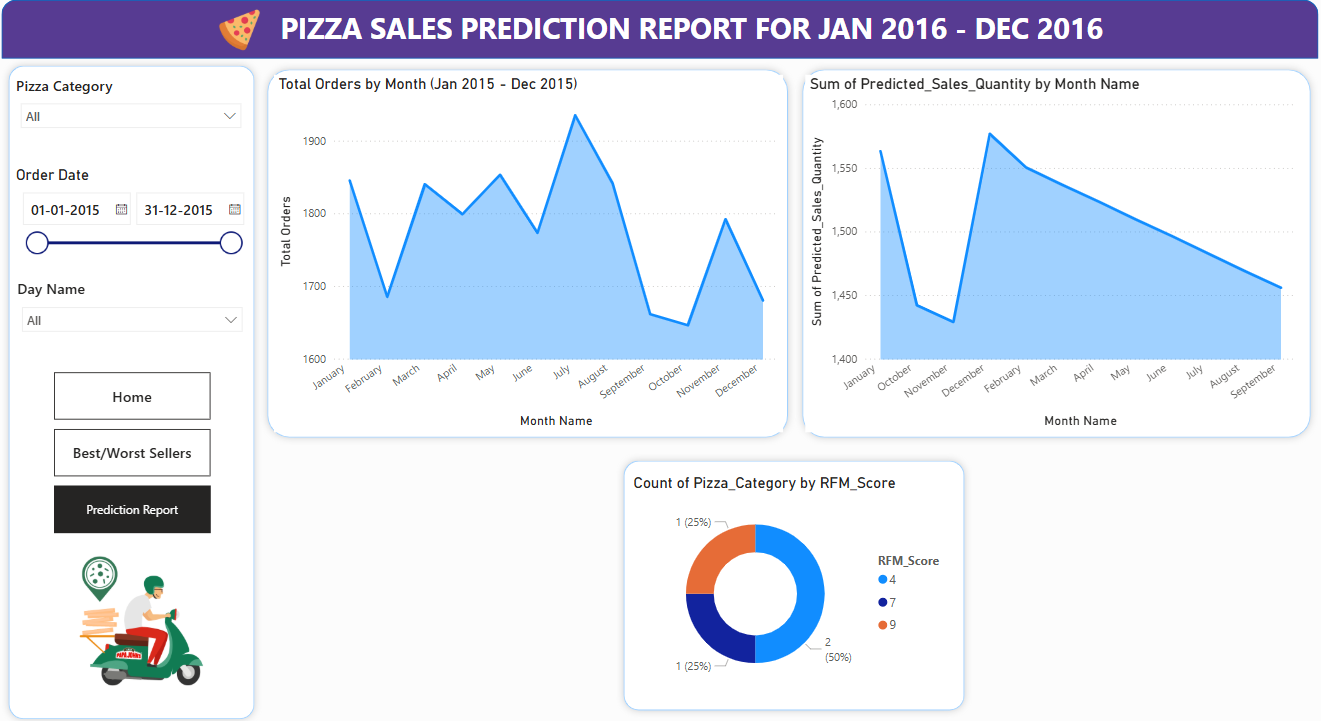

This screenshot's page, from the dashboard's own definition file:
{"tool":"powerbi","page":{"name":"Prediction Report","canvas":[1500,820],"ordinal":2},"visuals":[{"type":"shape","box":[14.3,75.7,290,744.3],"z":0},{"type":"shape","box":[14.3,10,1467.1,65.7],"z":1000},{"type":"textbox","box":[278.5,13.9,1008.3,65.5],"z":2000},{"type":"image","box":[250.7,7,57.1,72.4],"z":3000},{"type":"shape","box":[302.2,79.4,596.1,426.2],"z":4000},{"type":"slicer","title":"Pizza Category","fields":{"Values":["pizza_sales.pizza_category"]},"box":[25.7,92.9,265.7,82.9],"z":5000},{"type":"slicer","title":"Order Date","fields":{"Values":["pizza_sales.order_date"]},"box":[25.7,194.6,265.7,107.1],"z":6000},{"type":"slicer","title":"Day Name","fields":{"Values":["Sort Reference Table.Week Name"]},"box":[27.1,320.6,265.7,92.9],"z":7000},{"type":"shape","box":[898.3,79.4,582.1,426.2],"z":8000},{"type":"shape","box":[698.6,515.7,395.7,294.3],"z":9000},{"type":"image","box":[27.1,590,264.3,220],"z":12000},{"type":"areaChart","title":"Total Orders by Month (Jan 2015 - Dec 2015)","fields":{"Category":["pizza_sales.Month Name"],"Y":["pizza_sales.Total Orders"]},"box":[317.5,93.3,566.8,398.3],"z":14000},{"type":"areaChart","fields":{"Y":["Sum(monthly_sales_forecast_2016.Predicted_Sales_Quantity)"],"Category":["monthly_sales_forecast_2016.Month Name"]},"box":[909.4,93.3,551.5,398.3],"z":15000},{"type":"donutChart","fields":{"Category":["pizza_category_rfm_segment.RFM_Score"],"Y":["CountNonNull(pizza_category_rfm_segment.Pizza_Category)"]},"box":[713,537.6,369.1,249.3],"z":16000},{"type":"pageNavigator","box":[72.4,424.8,174.1,181.1],"z":16001}]}

Visuals, with their boxes in screenshot pixels (x1, y1, x2, y2), scaled from the page's 1500x820 canvas onto the 1321x721 screenshot:
shape: 13,67,268,720
shape: 13,9,1305,67
textbox: 245,12,1133,70
image: 221,6,271,70
shape: 266,70,791,445
"Pizza Category" slicer: 23,82,257,155
"Order Date" slicer: 23,171,257,265
"Day Name" slicer: 24,282,258,364
shape: 791,70,1304,445
shape: 615,453,964,712
image: 24,519,257,712
"Total Orders by Month (Jan 2015 - Dec 2015)" areaChart: 280,82,779,432
areaChart - Sum(monthly_sales_forecast_2016.Predicted_Sales_Quantity) x monthly_sales_forecast_2016.Month Name: 801,82,1287,432
donutChart - pizza_category_rfm_segment.RFM_Score x CountNonNull(pizza_category_rfm_segment.Pizza_Category): 628,473,953,692
pageNavigator: 64,374,217,533
